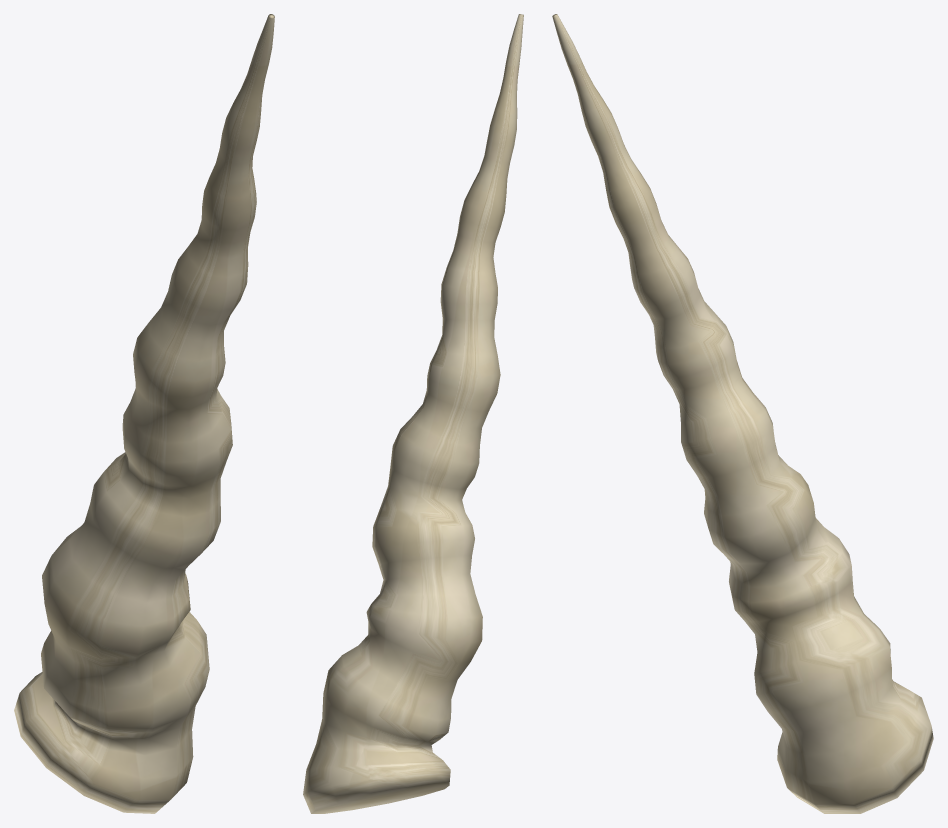
File: 一本角_onehorn.glb
3 renders of one model, left to right at view 1: azimuth 30°, elevation 25°; view 2: azimuth 150°, elevation 25°; view 3: azimuth 270°, elevation 25°, orthographic. The views are drawn at different scales.
Parts seen in each view (by area): view 1: onehorn; view 2: onehorn; view 3: onehorn.
Boxes of the visible parts, box(x1,y1,x2,y2) form: onehorn: box(14, 14, 274, 813); onehorn: box(303, 14, 523, 813); onehorn: box(552, 14, 933, 813).
Size of the model in its own units: 0.0323 by 0.168 by 0.0748.
Materials: 1 (1 with a texture image).
